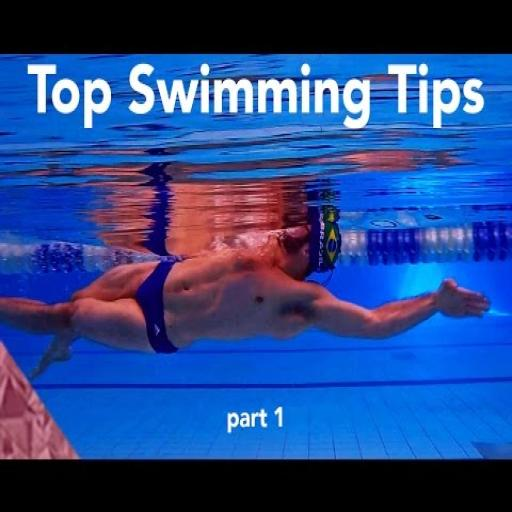swimming: (0, 212, 492, 381)
